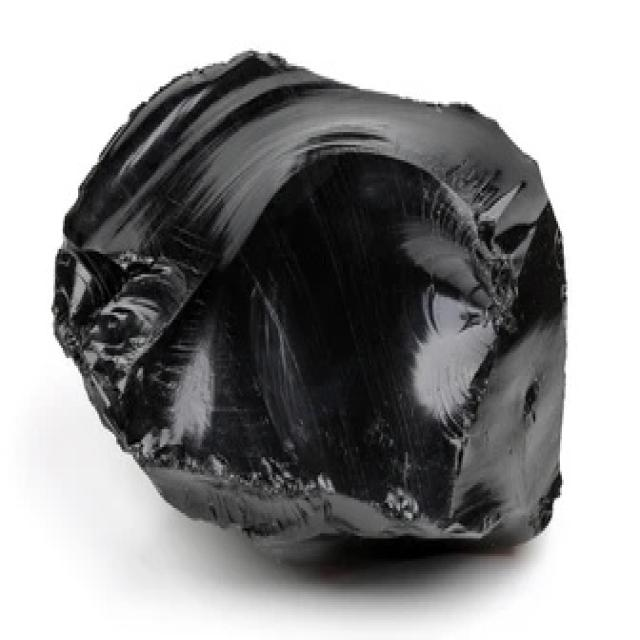Sedimentary: (51, 46, 594, 574)
